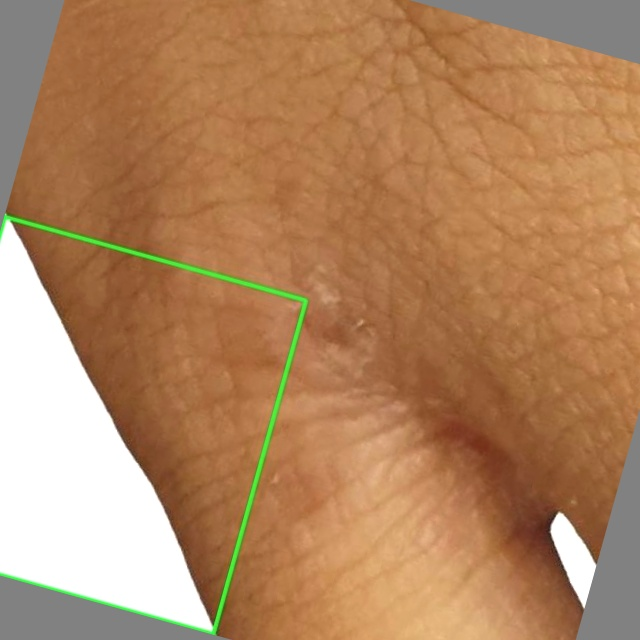Scabies: (0, 216, 305, 633)
